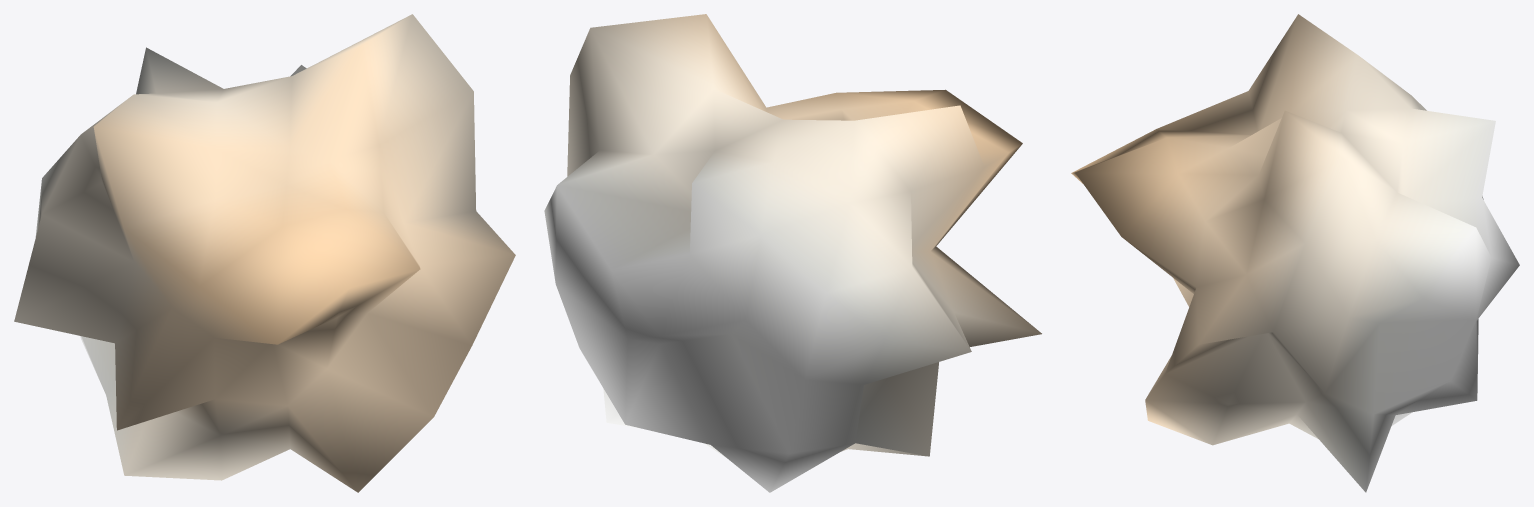
The model's file is PaperBall.fbx.
The picture shows the model from 3 angles, left to right: view 1: azimuth 30°, elevation 25°; view 2: azimuth 150°, elevation 25°; view 3: azimuth 270°, elevation 25°; orthographic projection. The views are drawn at different scales.
Parts seen in each view (by area): view 1: LowPolyHumanBase.010; view 2: LowPolyHumanBase.010; view 3: LowPolyHumanBase.010.
Boxes of the visible parts, <box> form: LowPolyHumanBase.010: <box>14,14,515,492</box>; LowPolyHumanBase.010: <box>544,14,1041,492</box>; LowPolyHumanBase.010: <box>1071,14,1519,492</box>.
Size of the model in its own units: 32.29 by 29.66 by 31.67.
